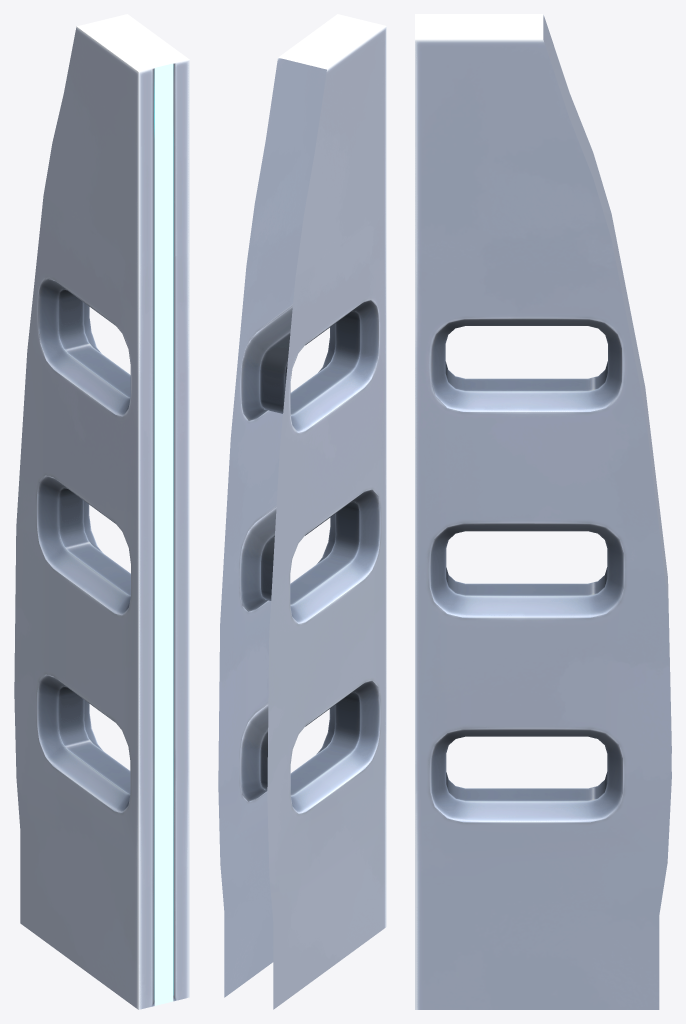
File: obj_wall.gltf
3 views of the same model, side by side, from view 1: azimuth 30°, elevation 25°; view 2: azimuth 150°, elevation 25°; view 3: azimuth 270°, elevation 25° (orthographic). The views are drawn at different scales.
Parts seen in each view (by area): view 1: obj_wall; view 2: obj_wall; view 3: obj_wall.
Part boxes in pixels (bbox=[...]): obj_wall: bbox=[14, 14, 189, 1009]; obj_wall: bbox=[218, 14, 386, 1009]; obj_wall: bbox=[415, 14, 671, 1009].
Size of what is drawn, in the model's own units: 0.2557 by 4.36 by 1.05.
2 materials, 1 textured.
